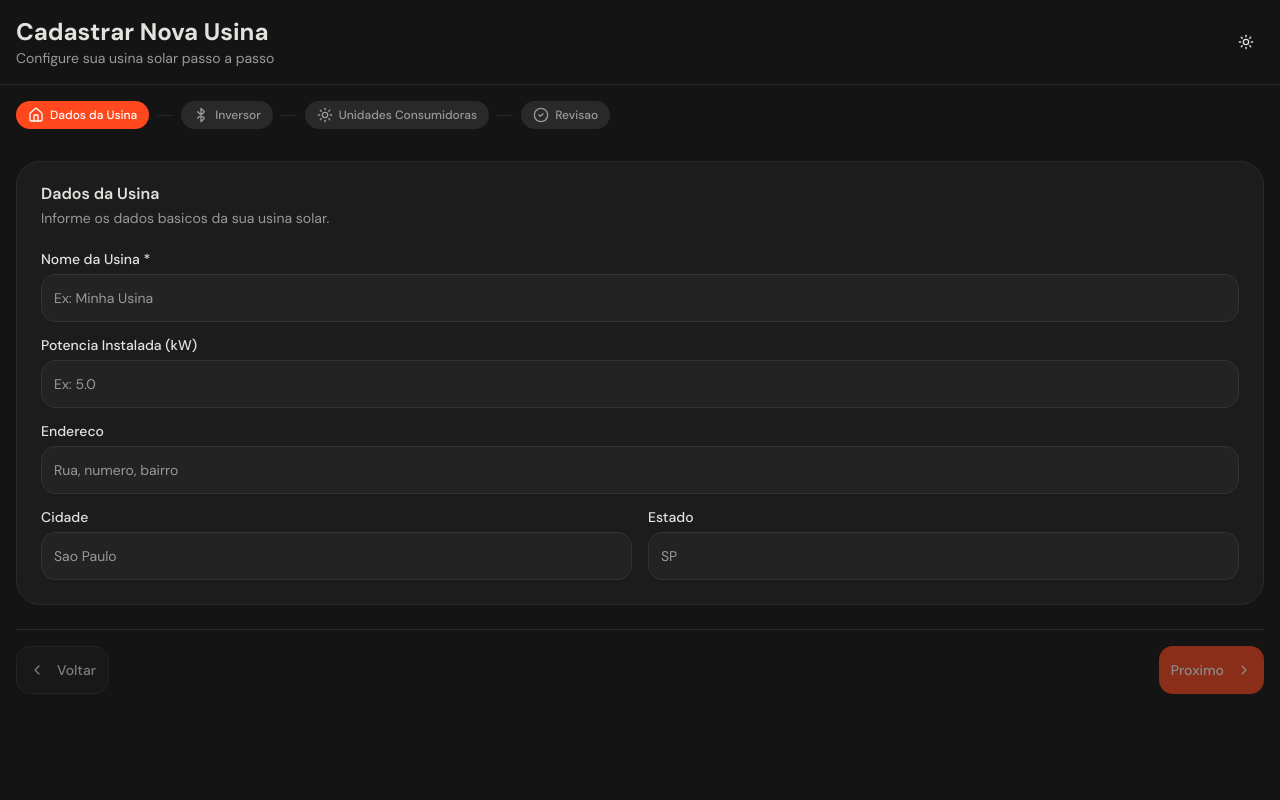
Test: PlantWizardScreen existing plant statuses › shows pending request date and rejected reason in the review status block
In the field labelled "Nome da Usina *": (640,298) [41,274,1239,322], type "Nova Usina"
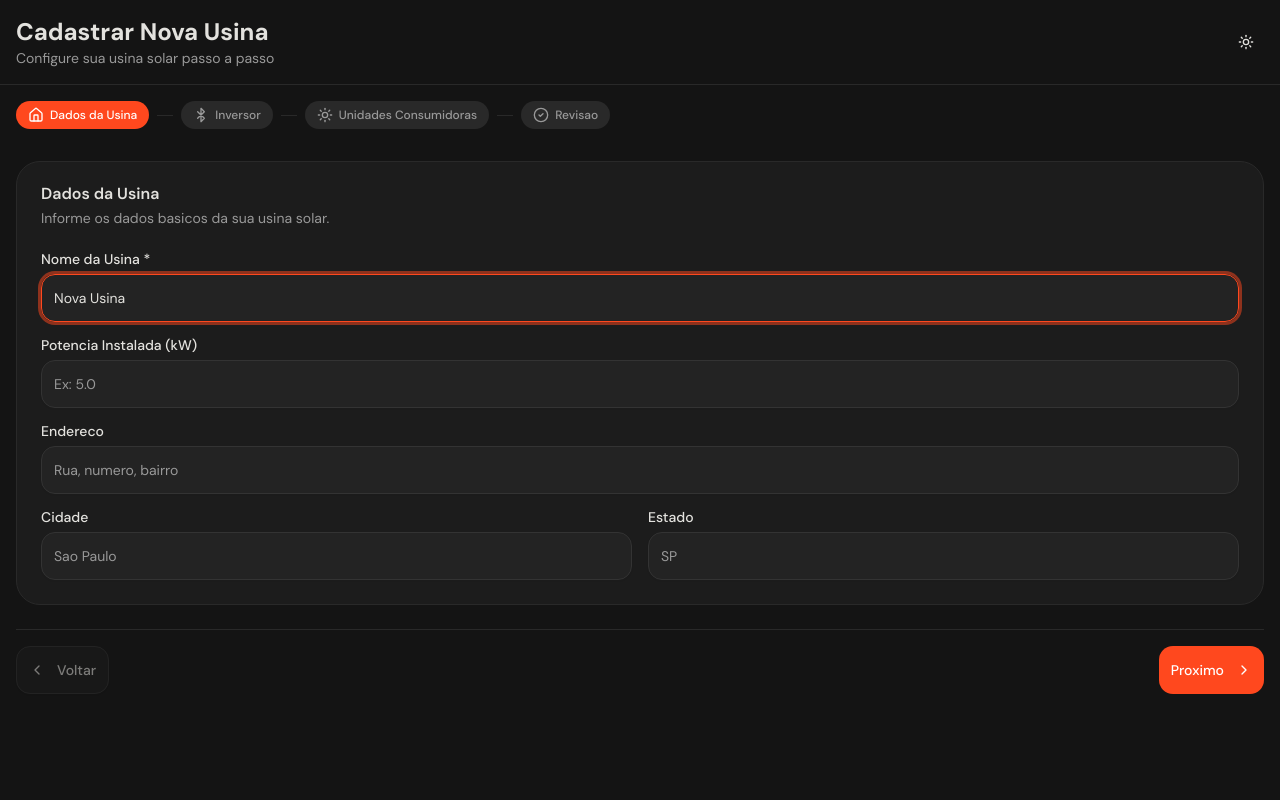
Click the button "Proximo": (1211,670) [1159,646,1264,694]
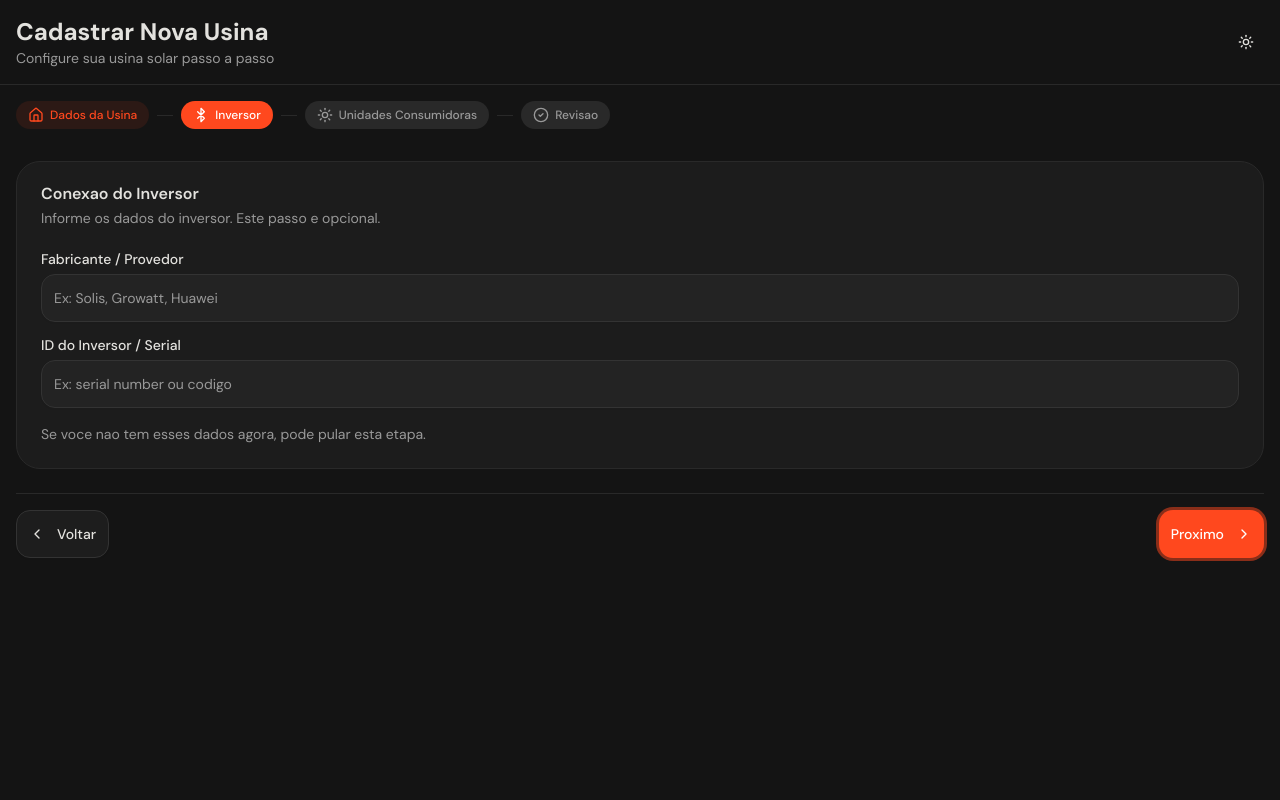
Click the button "Proximo": (1211,534) [1159,510,1264,558]
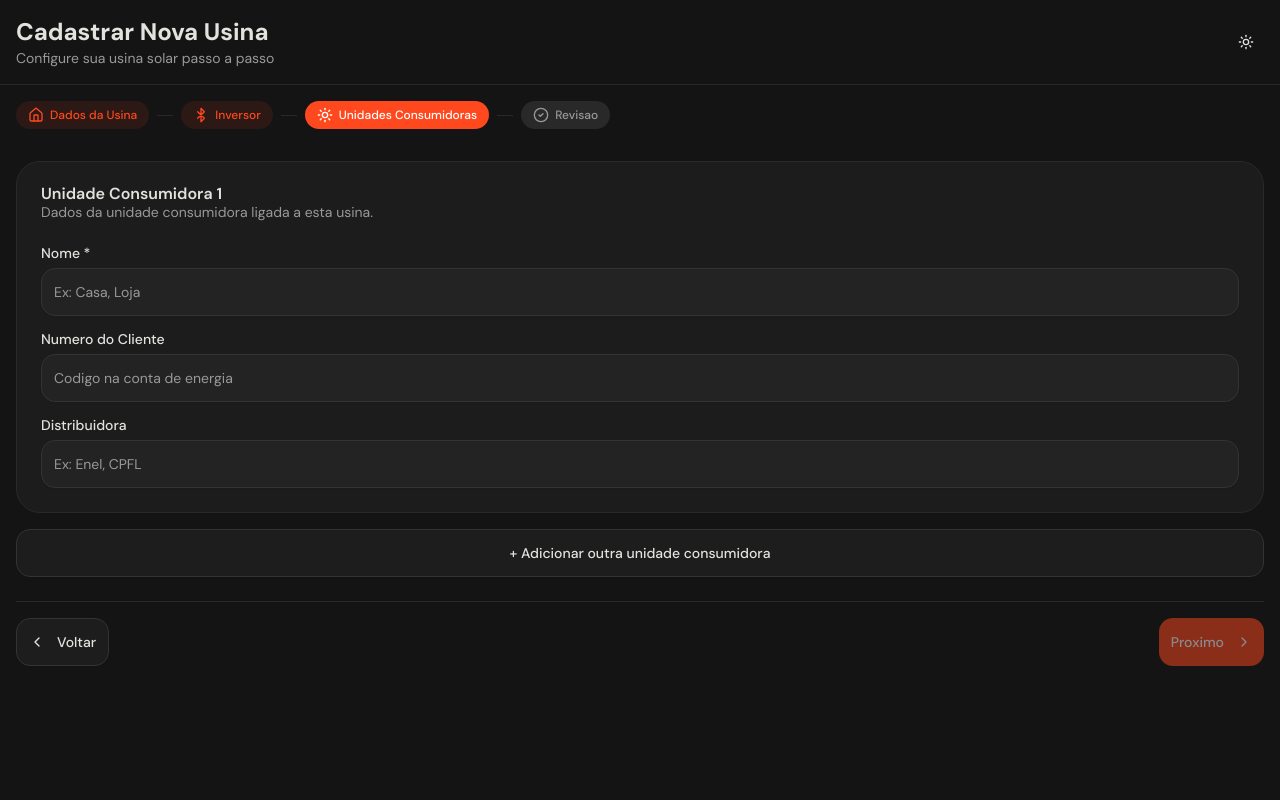
In the field labelled "Nome *": (640,292) [41,268,1239,316], type "UC Centro"
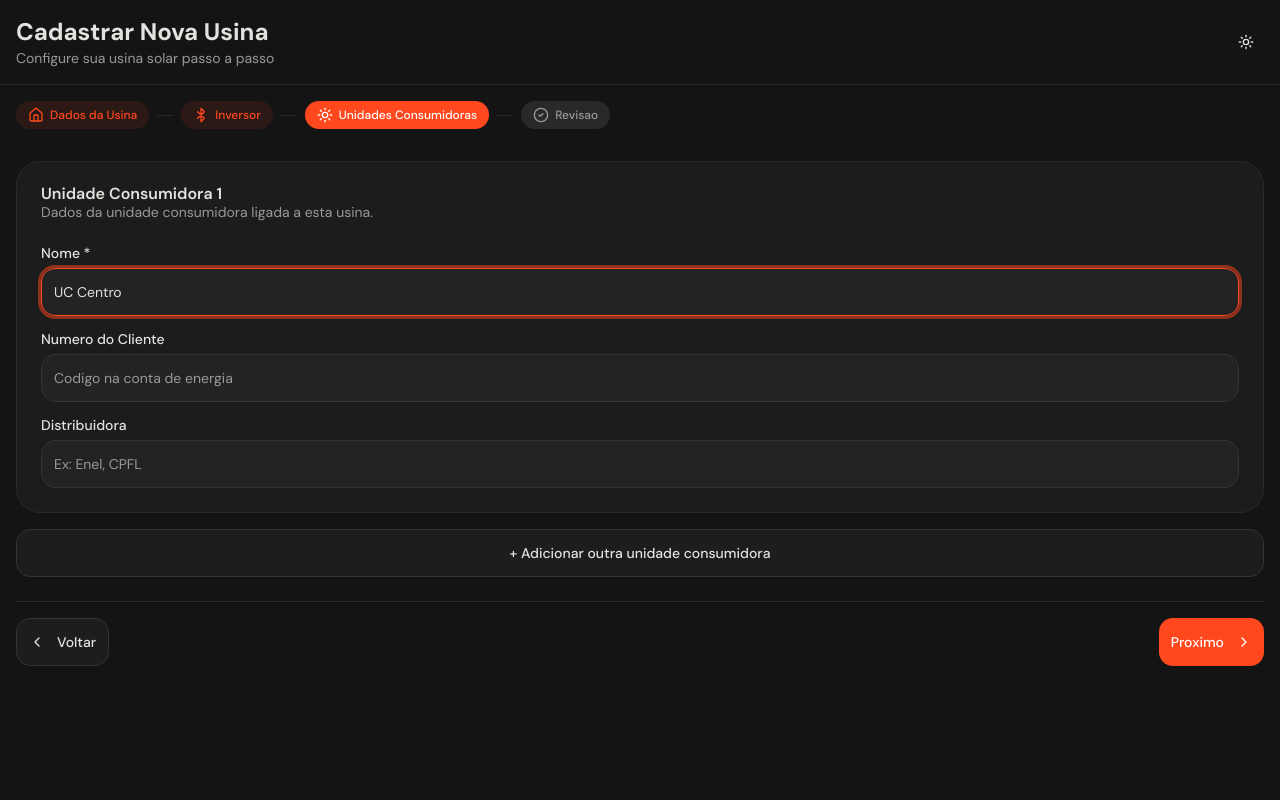
Click the button "Proximo": (1211,642) [1159,618,1264,666]
(page scrolled)
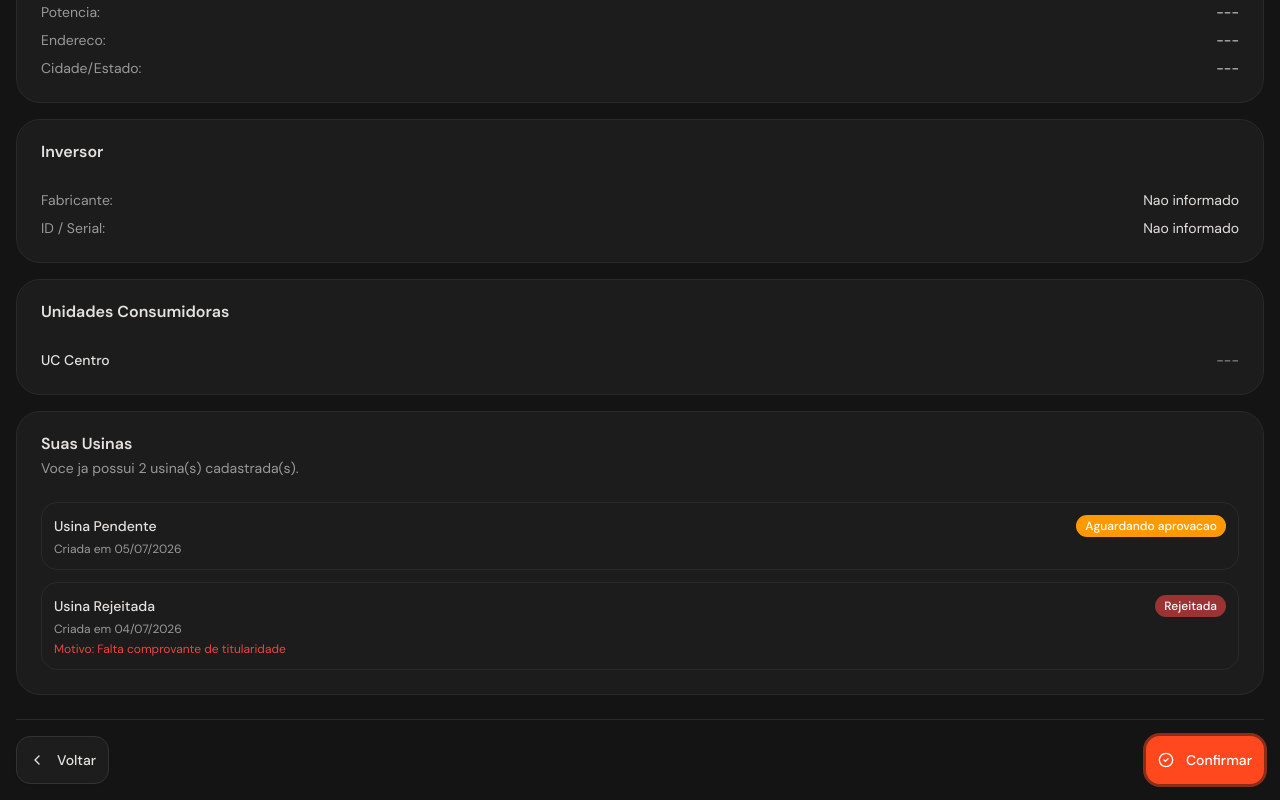
Expected: the text "Suas Usinas" is shown, [41,433,132,454]
Expected: the text "Usina Pendente" is shown, [54,516,157,536]
Expected: the text "Aguardando aprovacao" is shown, [1076,515,1226,537]
